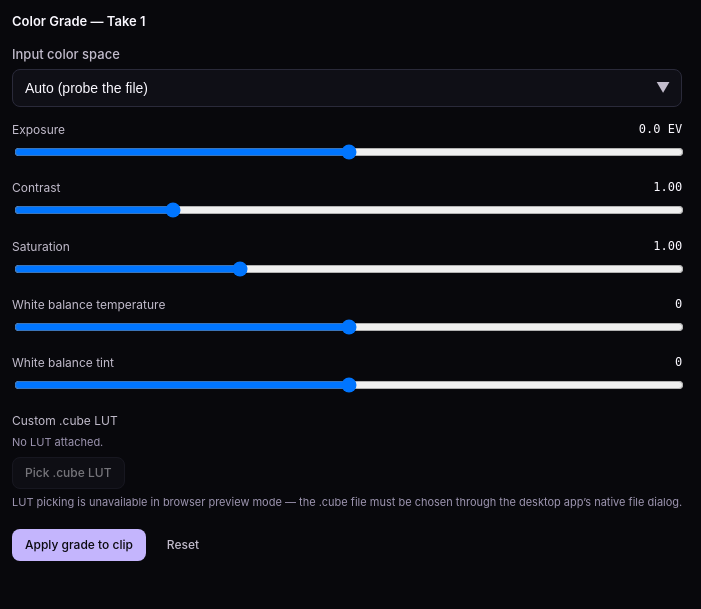
Test: ColorInspector: per-clip color grade tab › sends the setColor-shaped payload through updateClipColor on apply
Set the slider named "Exposure" to "1.5" at coordinates (513, 152), box [14,144,684,160]
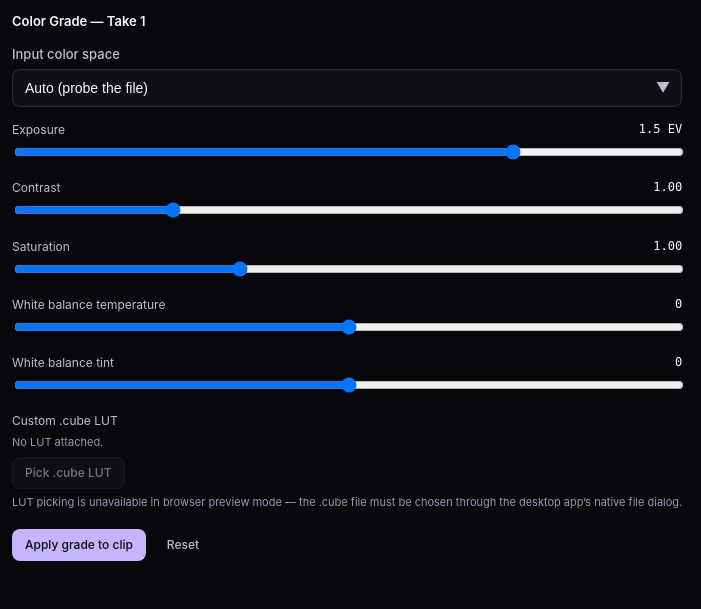
Set the slider named "Contrast" to "1.25" at coordinates (215, 210), box [14,202,684,218]
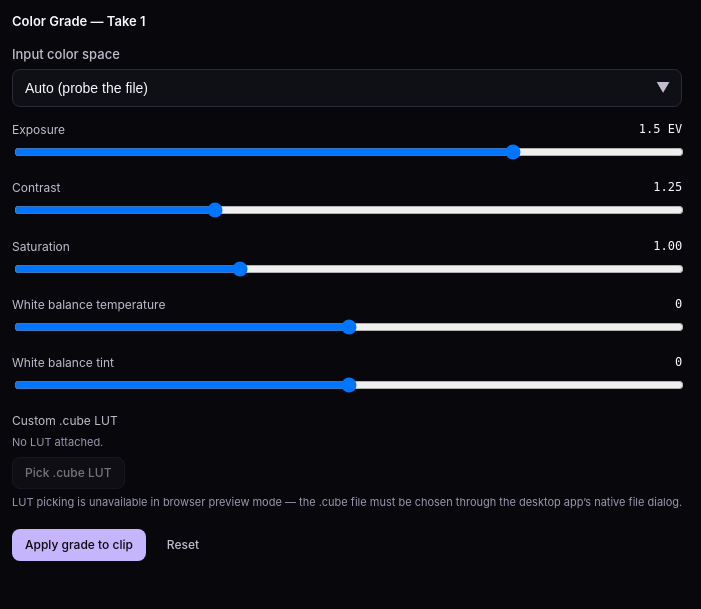
Select "Sony S-Log3" in the dropdown labelled "Input color space" at coordinates (347, 88), box [12,69,682,107]
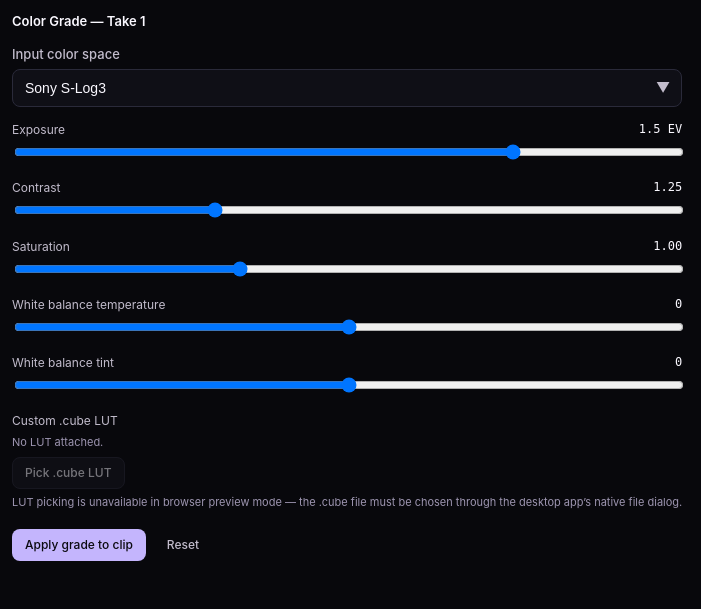
Click the button "Apply grade to clip" at coordinates (79, 545), box [12,529,146,561]
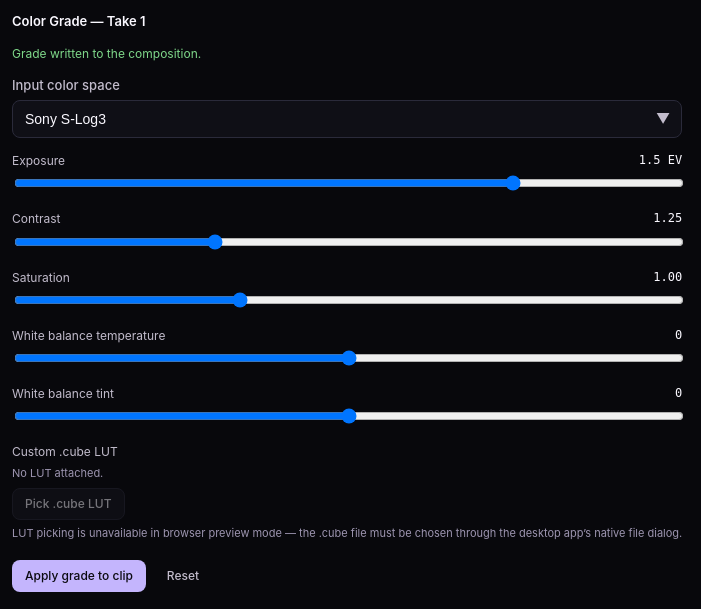
Result: the text "Grade written to the composition." is shown at [12,46,201,61]
